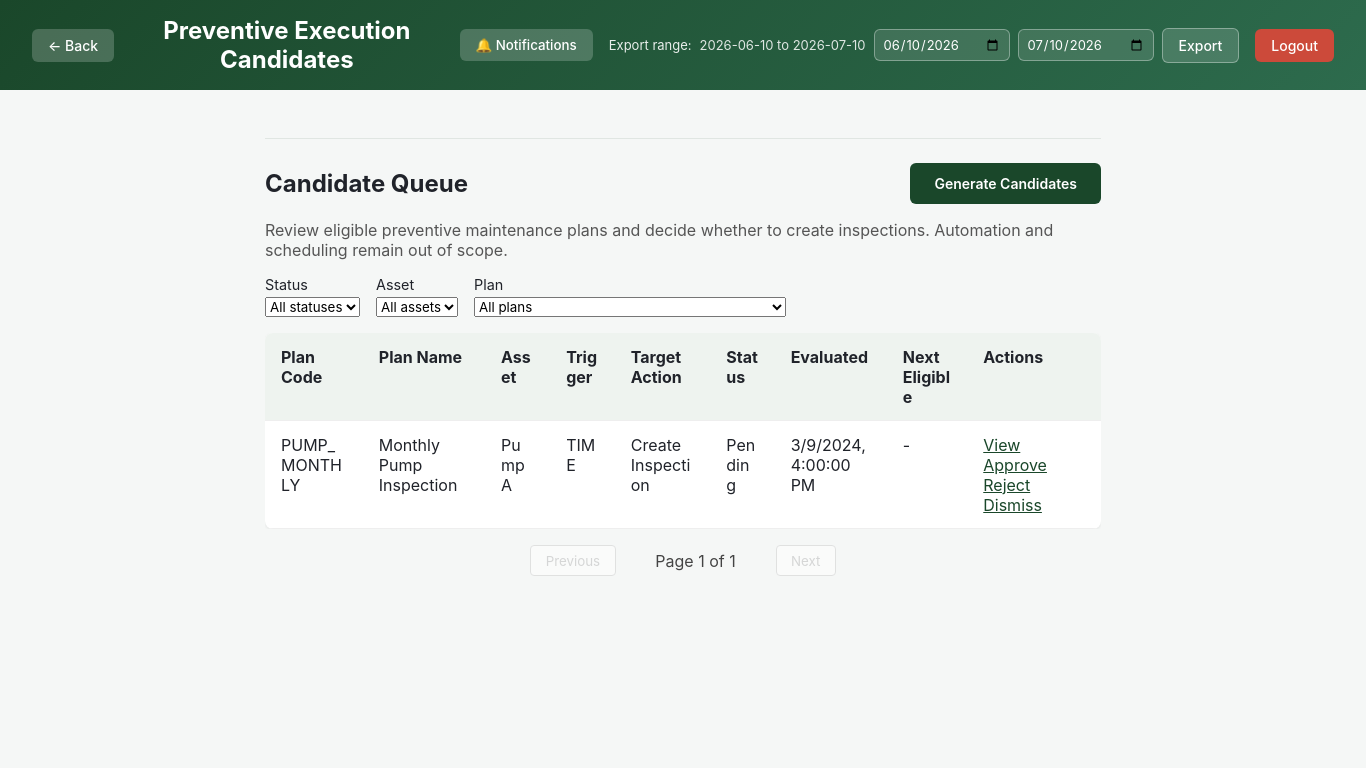
PreventiveExecutionCandidatesPage › generates candidates when button clicked
Check: the text "PUMP_MONTHLY" is shown, box 265,421 -> 363,529
Click the button "Generate Candidates".
click(1006, 184)  # box 910,163 -> 1101,204
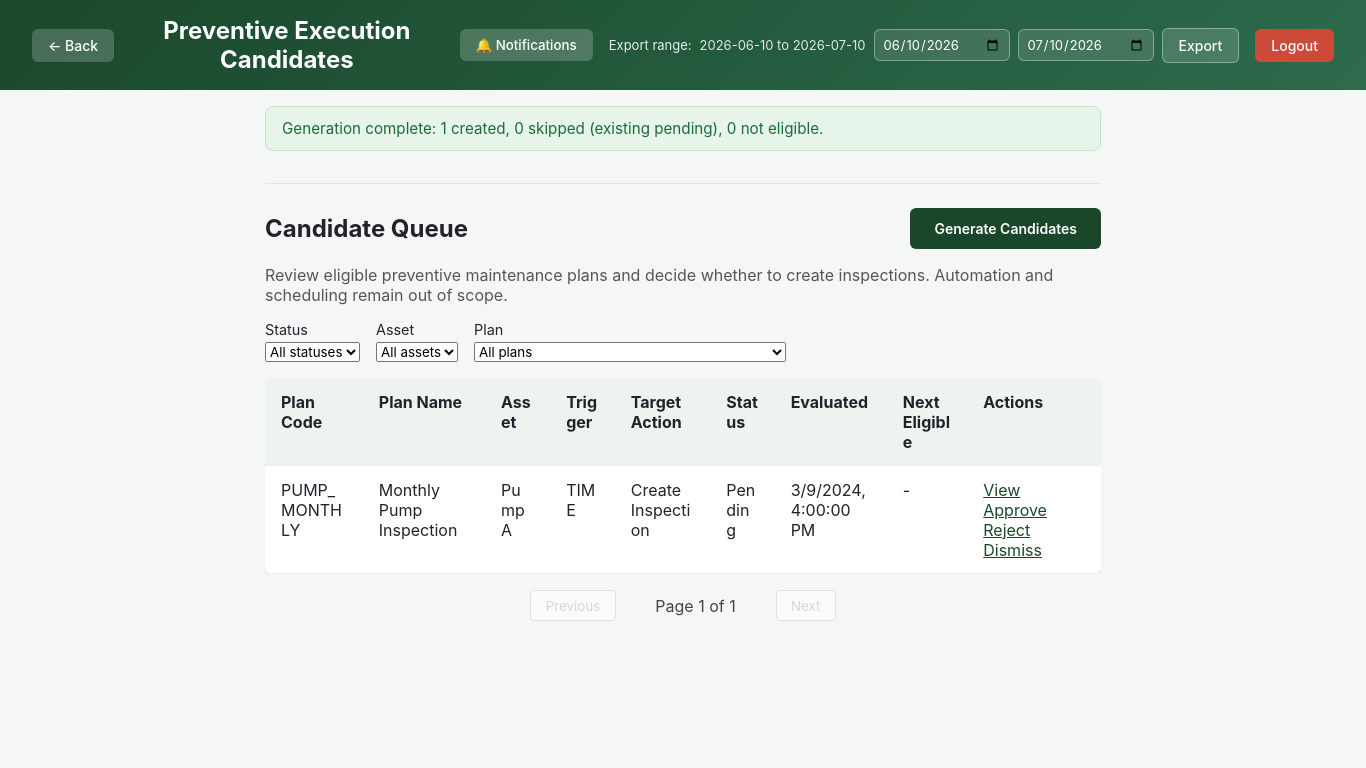
Check: the text "Generation complete: 1 created, 0 skipped (existing pending), 0 not eligible." is shown, box 265,106 -> 1101,151
